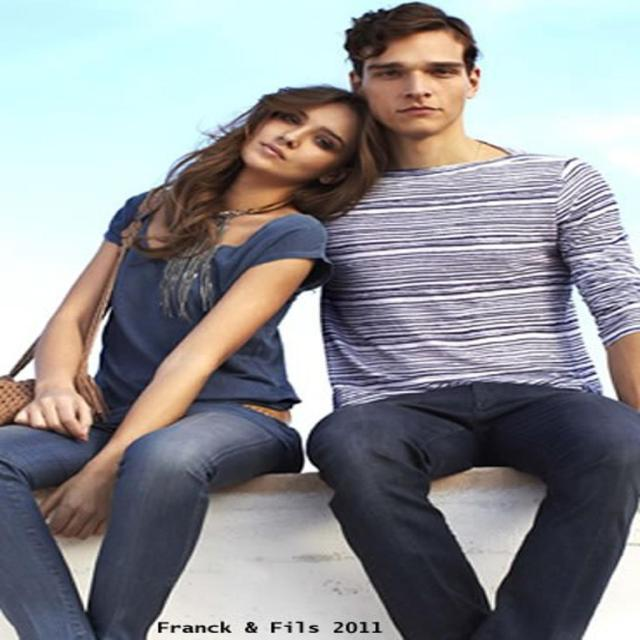Face: (239, 89, 357, 188), (373, 31, 481, 139)
